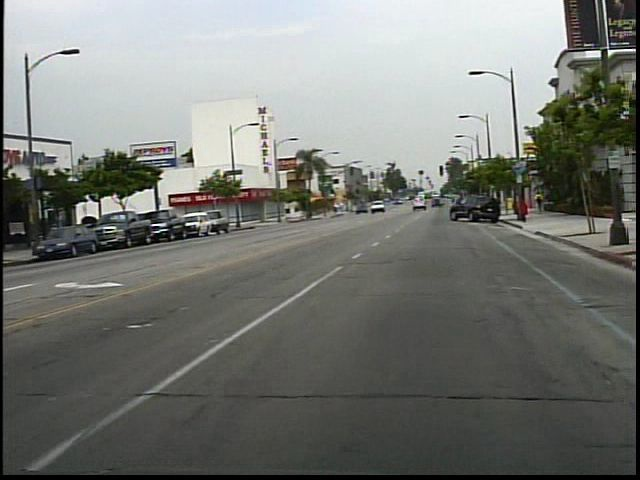person: (537, 189, 551, 217)
